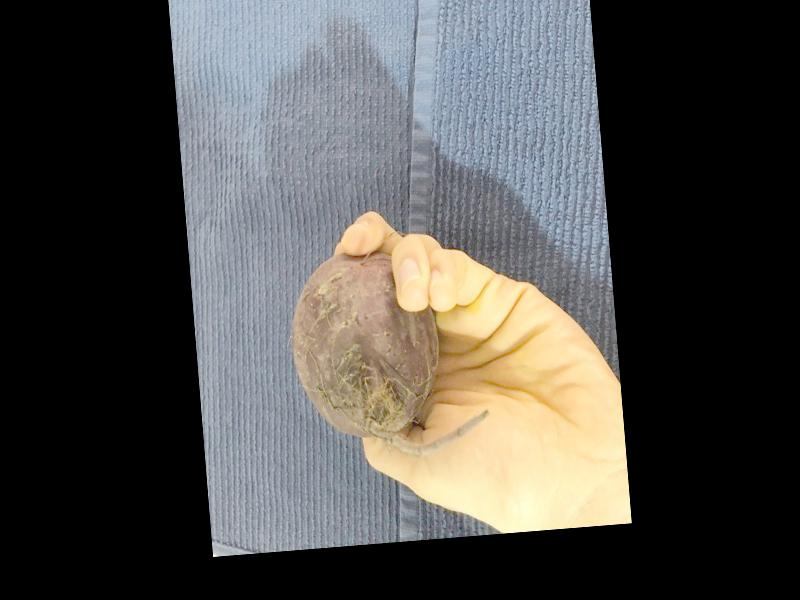Beet: (286, 242, 494, 463)
